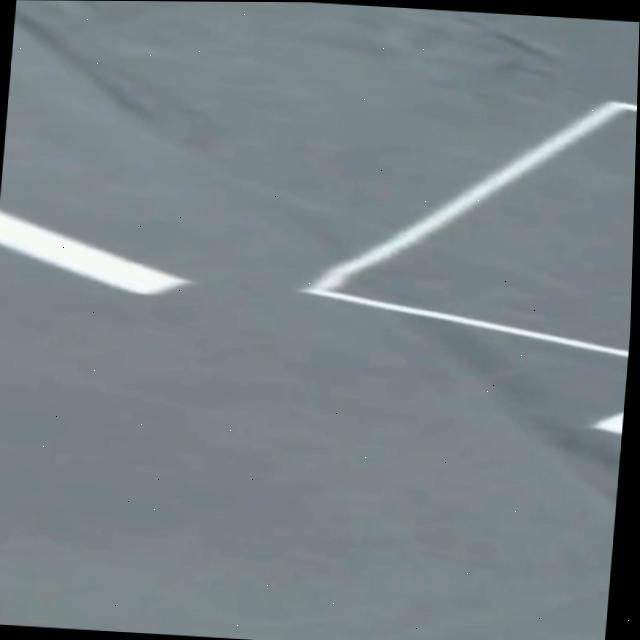center: (0, 209, 191, 293), (592, 411, 624, 433)
